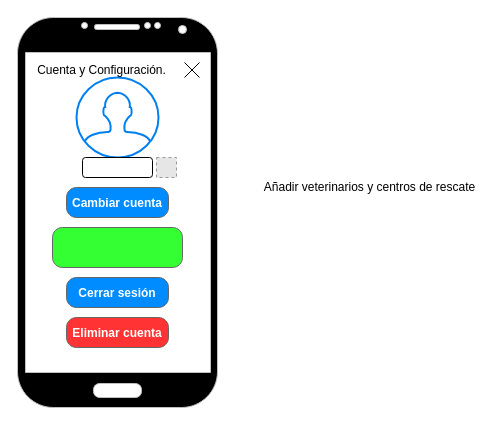
The diagram is 502 pixels wide and 425 high, and some of its shapes have lost their labels. Grey dashed boxes stand in for pictures. Here are the shapes that lost their labels. From the top down, the centre of each, then its label:
At [117,167]: "Nombre".
At [117,247]: "Dar de alta como veterinario".
